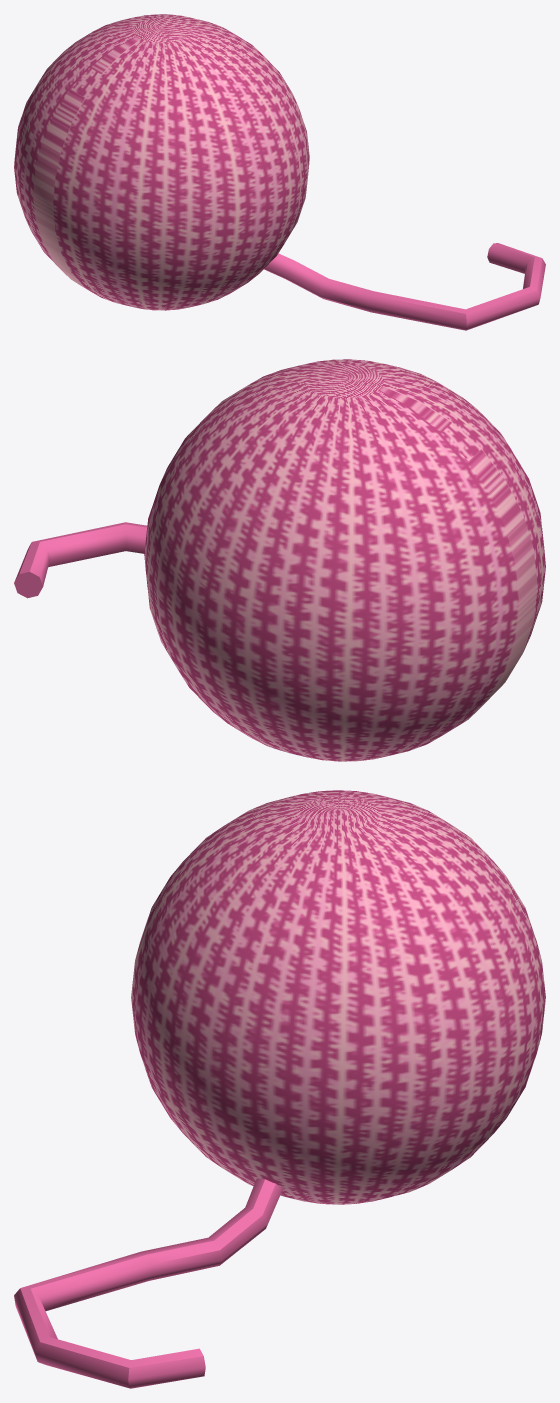
The model's file is Toy_YarnBall.fbx.
3 views of the same model, one above another, from view 1: azimuth 30°, elevation 25°; view 2: azimuth 150°, elevation 25°; view 3: azimuth 270°, elevation 25° (orthographic). The views are drawn at different scales.
Visible parts, largest first — view 1: Ball, Strand; view 2: Ball, Strand; view 3: Ball, Strand.
Boxes of the visible parts, x1,y1,x2,y2 form: Ball: (14,14,309,310); Strand: (264,243,545,330); Ball: (144,359,545,761); Strand: (14,522,147,598); Ball: (131,790,545,1204); Strand: (14,1178,282,1388).
Size of the model in its own units: 1.02 by 0.6 by 0.7692.
Materials: 1 (1 with a texture image).
